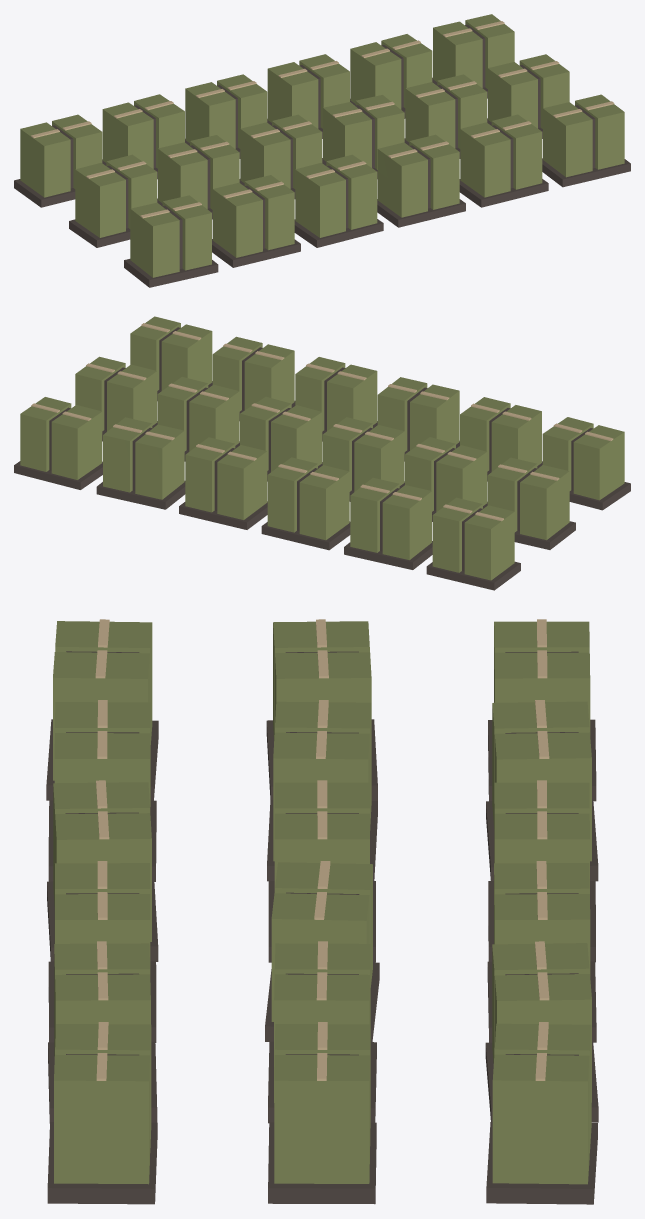
The model's file is SM_AcopioMunicion_v0_Lleno_LOD1.fbx.
The picture shows the model from 3 angles, top to bottom: view 1: azimuth 30°, elevation 25°; view 2: azimuth 150°, elevation 25°; view 3: azimuth 270°, elevation 25°; orthographic projection. The views are drawn at different scales.
Visible parts, largest first — view 1: SM_acopio_carga_v0_LOD1; view 2: SM_acopio_carga_v0_LOD1; view 3: SM_acopio_carga_v0_LOD1.
Part boxes in pixels (x1,y1,x2,y2): SM_acopio_carga_v0_LOD1: [14, 14, 630, 287]; SM_acopio_carga_v0_LOD1: [14, 316, 630, 590]; SM_acopio_carga_v0_LOD1: [46, 619, 598, 1204].
Bounding box in the file's own units: 9.1 × 1.09 × 4.52.
